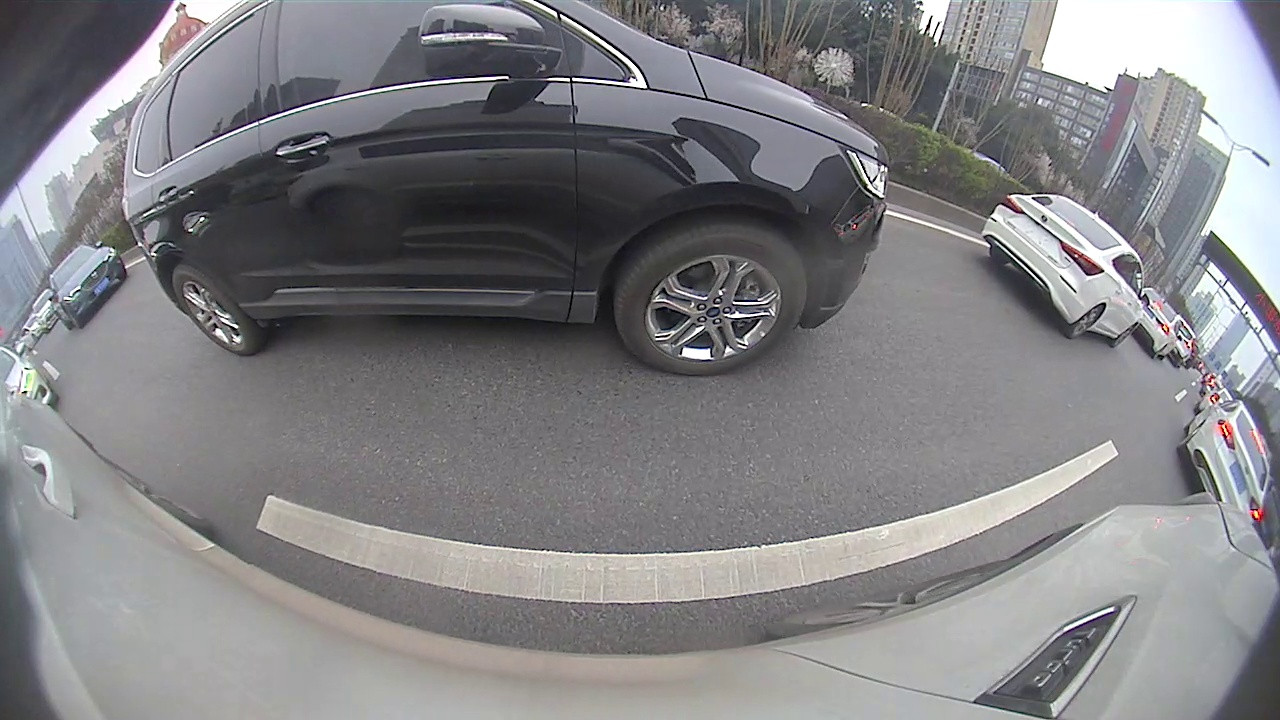car: (120, 2, 891, 378), (981, 192, 1152, 351), (1177, 395, 1271, 527), (48, 241, 128, 332)
front: (613, 215, 805, 378), (1113, 324, 1137, 349)
rear: (172, 266, 258, 357), (1063, 304, 1105, 341)
